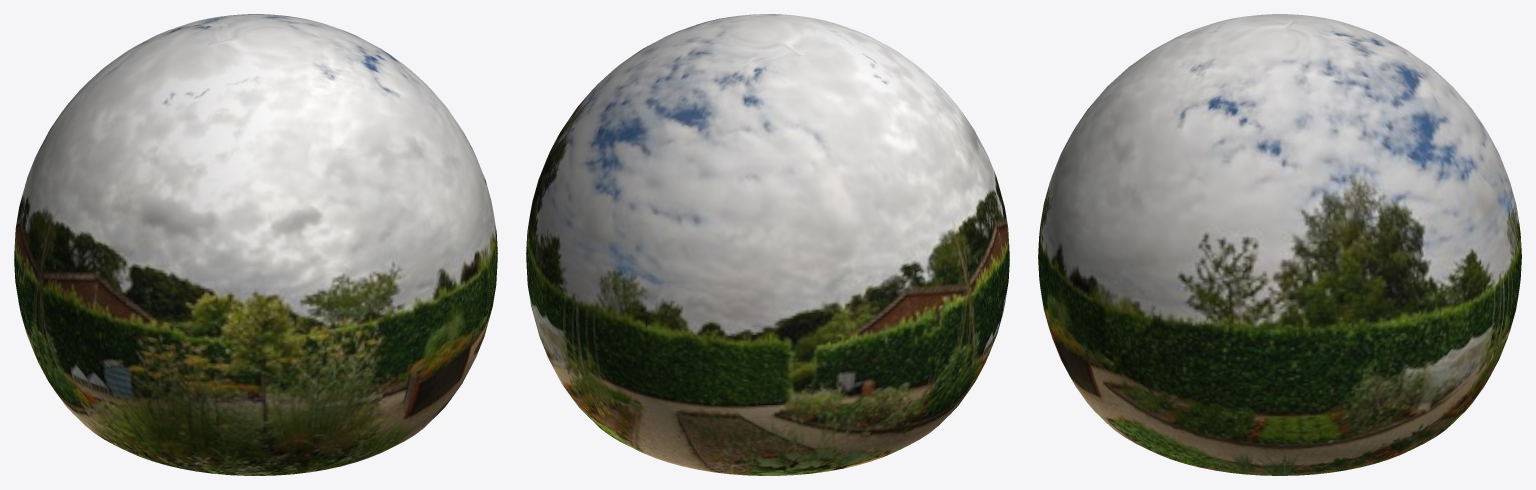
File: panoramaNEW.fbx
3 renders of one model, left to right at view 1: azimuth 30°, elevation 25°; view 2: azimuth 150°, elevation 25°; view 3: azimuth 270°, elevation 25°, orthographic.
Visible parts, largest first — view 1: Sphere.004; view 2: Sphere.004; view 3: Sphere.004.
Part boxes in pixels (bbox=[...]): Sphere.004: bbox=[14, 14, 497, 475]; Sphere.004: bbox=[526, 14, 1009, 475]; Sphere.004: bbox=[1038, 14, 1521, 475].
Bounding box in the file's own units: 198 × 169 × 198.
